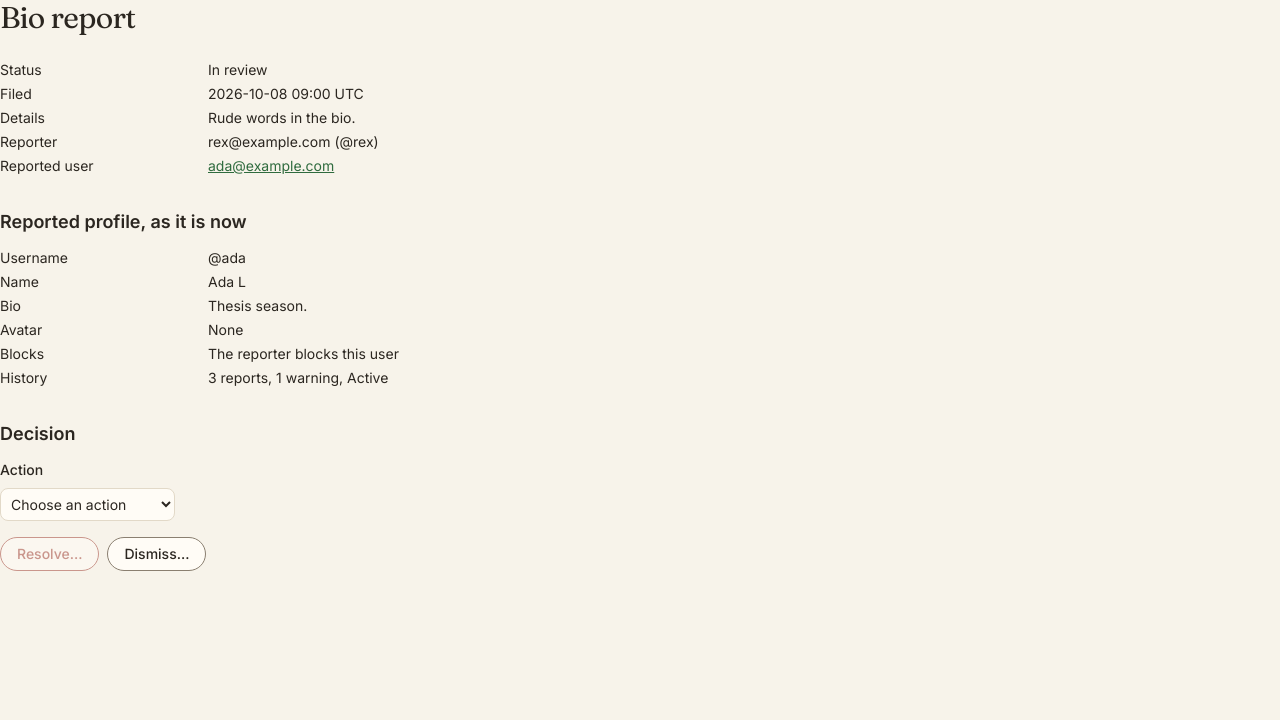
Test: report detail (D5.1) › resolves with an action, a message for a warning, and a confirmed reason
Select "Warn the user" in the dropdown labelled "Action" at (88, 504), box [0,488,175,521]
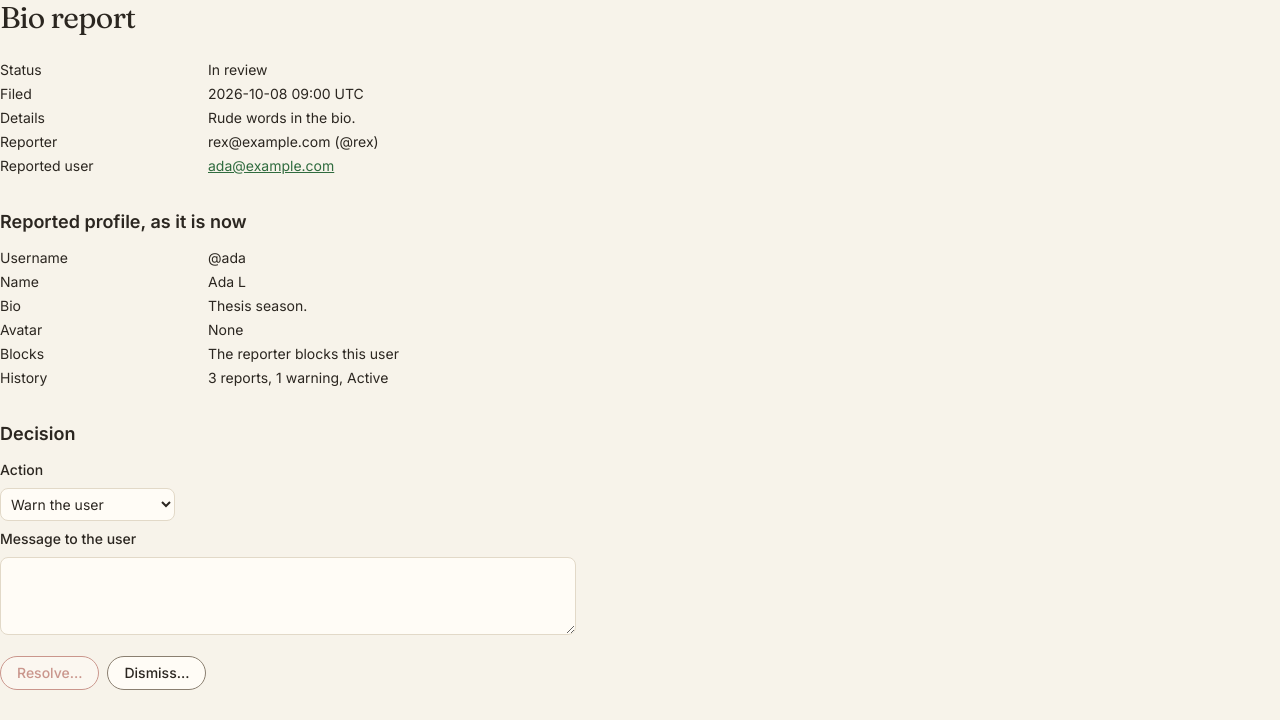
Expected: the button "Resolve…" is disabled, [0,656,100,690]
Type "Please keep your bio kind." into the text box labelled "Message to the user" at (288, 596), box [0,557,576,635]
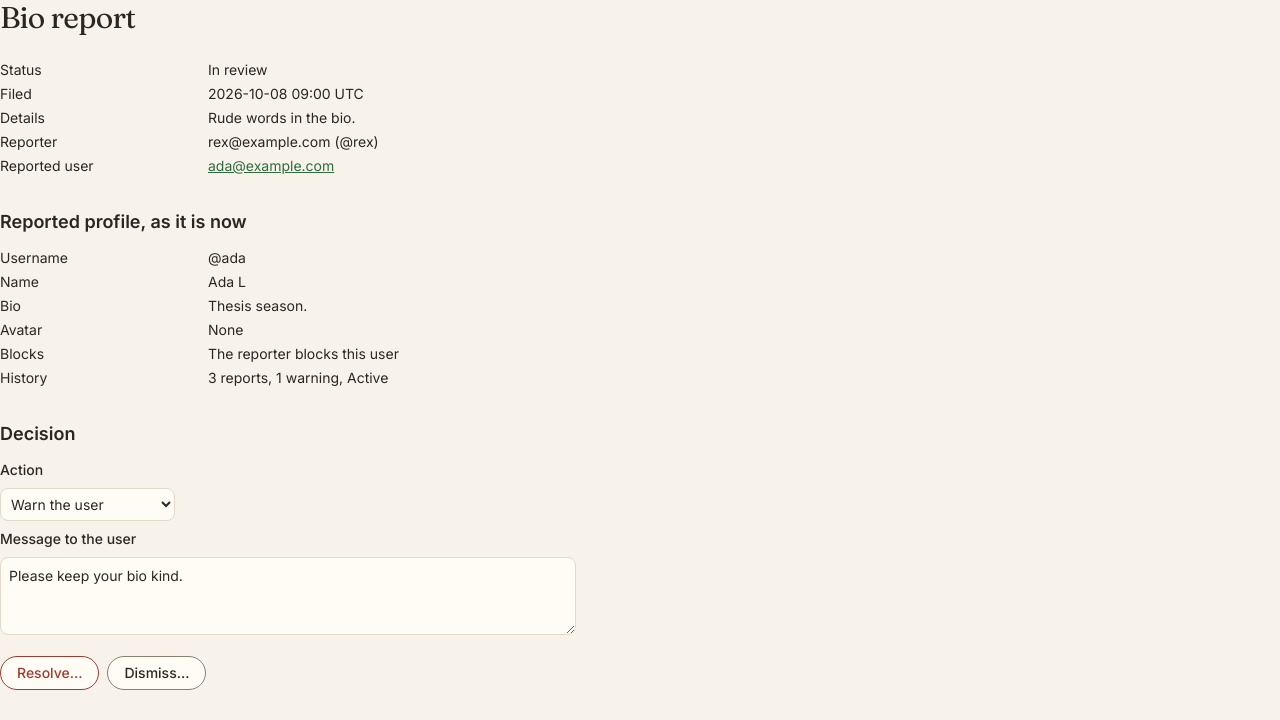
Result: the button "Resolve…" is enabled
Click the button "Resolve…" at (50, 673), box [0,656,100,690]
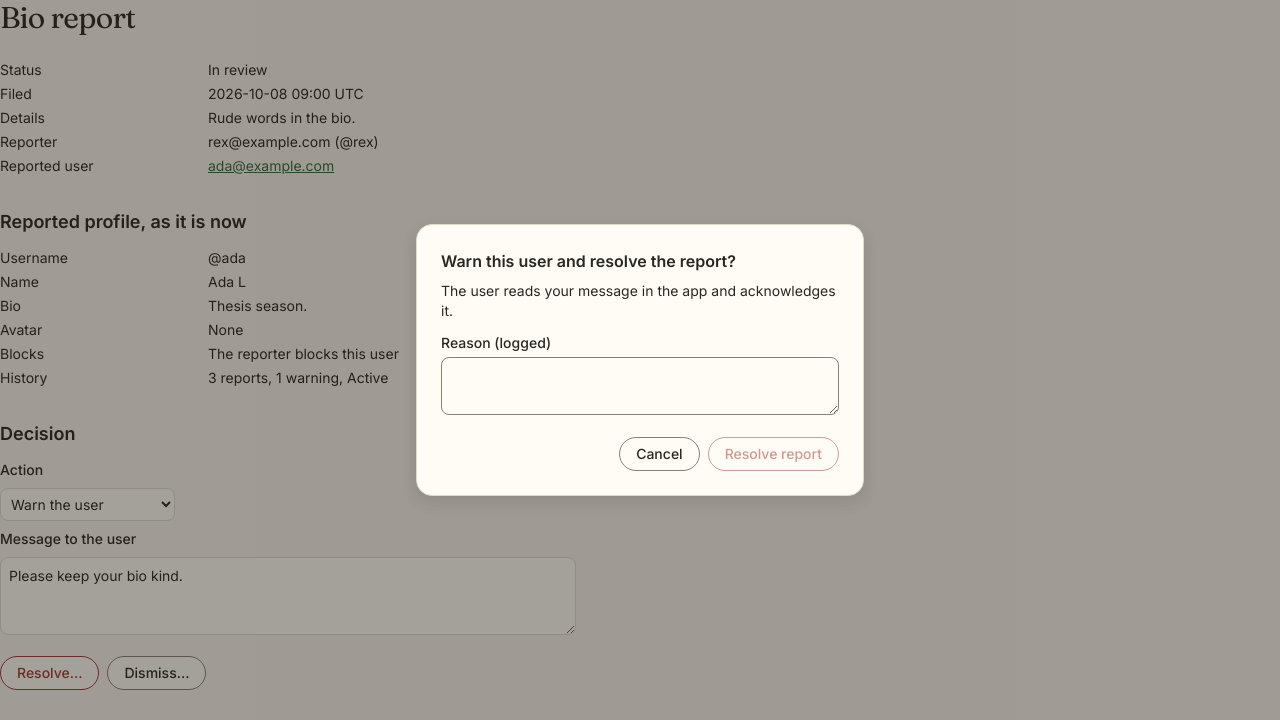
Type "Bio breaks the rules" into the text box labelled "Reason (logged)" at (640, 386), box [441,357,839,415]
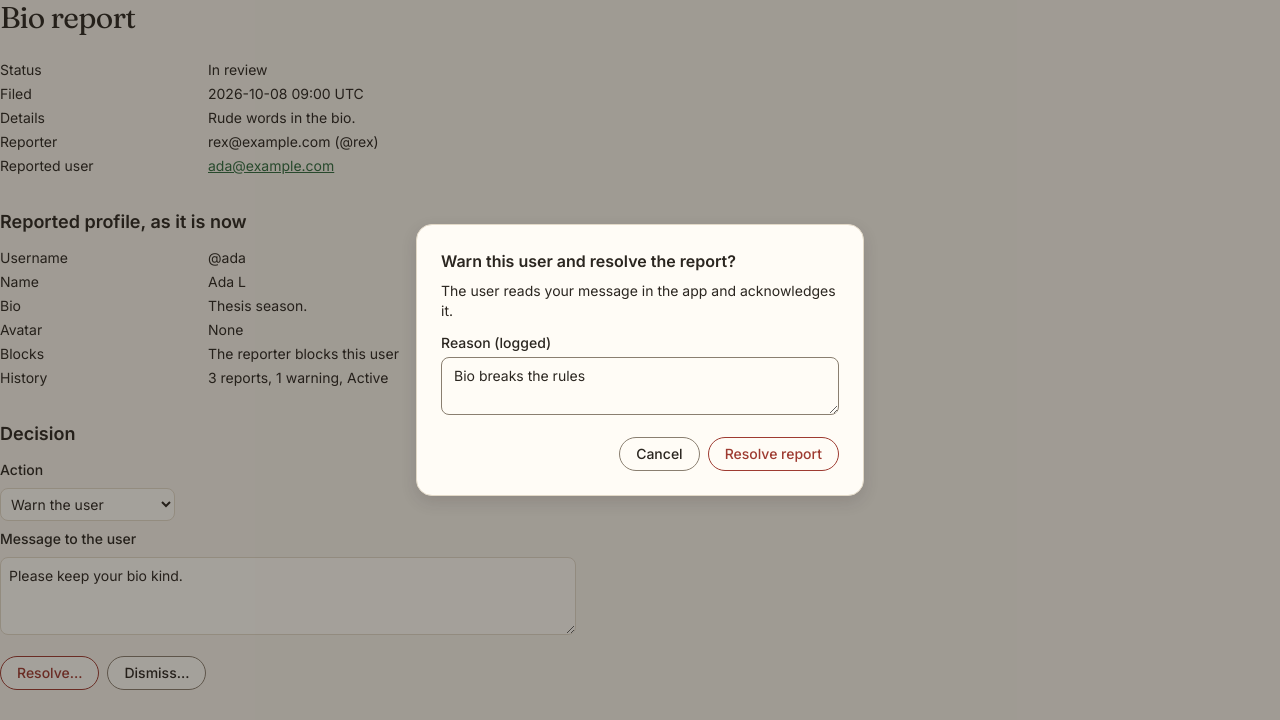
Click the button "Resolve report" at (773, 454), box [708,437,839,471]
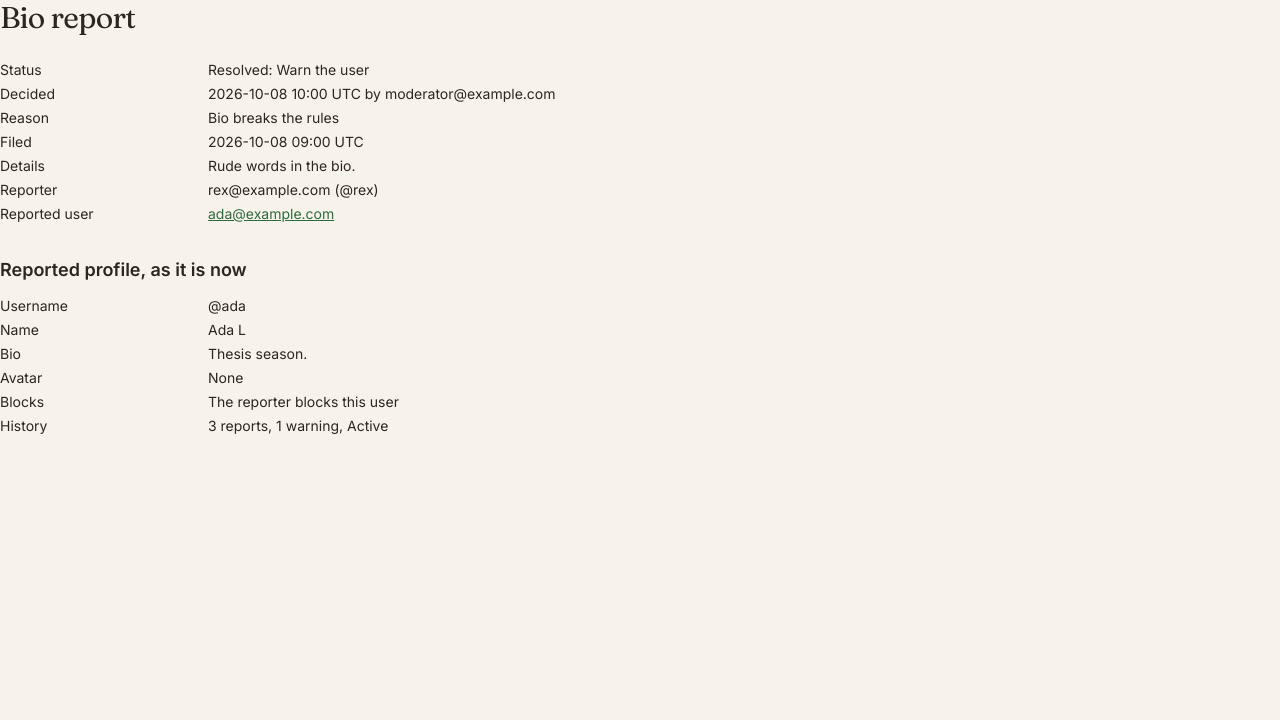
Result: the text "Resolved: Warn the user" is shown at [208,61,369,78]
Result: the label labelled "Action" is gone
Result: the button "Dismiss…" is gone
